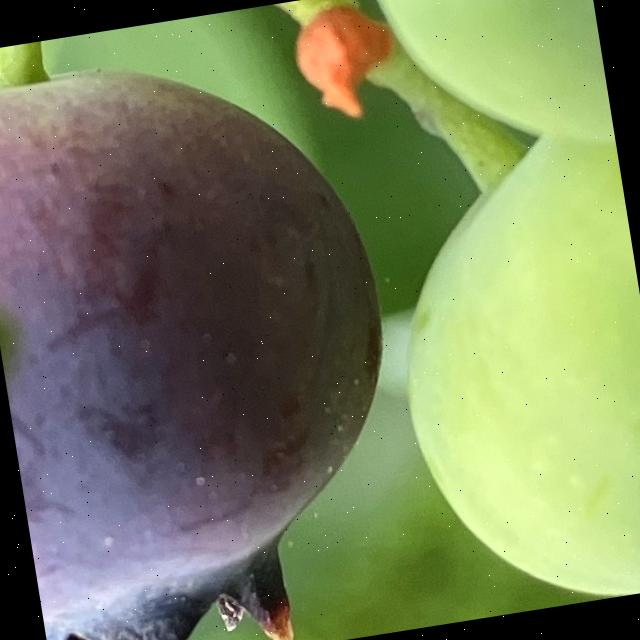Blueberries: (358, 76, 640, 625)
